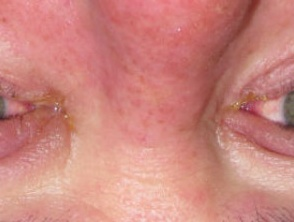SJS-TEN: (202, 81, 283, 160), (10, 77, 83, 159)
